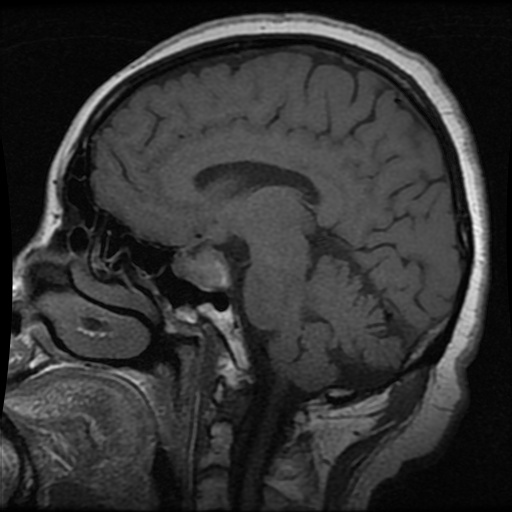pituitary: (172, 248, 232, 291)
